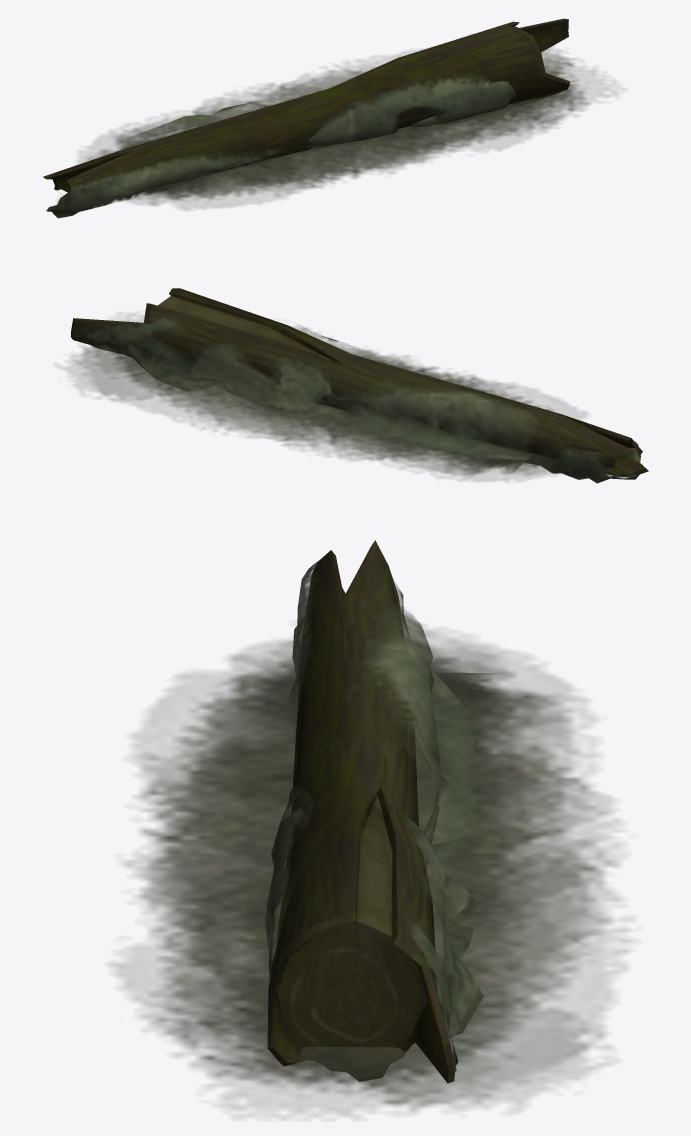
3 views of the same model, one above another, from view 1: azimuth 30°, elevation 25°; view 2: azimuth 150°, elevation 25°; view 3: azimuth 270°, elevation 25° (orthographic). The views are drawn at different scales.
Visible parts, largest first — view 1: plants_lying_snag_b-1-underlay, plants_lying_snag_b-0-snag; view 2: plants_lying_snag_b-1-underlay, plants_lying_snag_b-0-snag; view 3: plants_lying_snag_b-1-underlay, plants_lying_snag_b-0-snag.
Part boxes in pixels (x1,y1,x2,y2): plants_lying_snag_b-1-underlay: (52,47,616,218); plants_lying_snag_b-0-snag: (43,18,570,211); plants_lying_snag_b-1-underlay: (63,314,640,483); plants_lying_snag_b-0-snag: (71,288,648,476); plants_lying_snag_b-1-underlay: (111,560,629,1116); plants_lying_snag_b-0-snag: (267,540,455,1083).
Size of the model in its own units: 5.9 by 0.7982 by 2.72.
2 materials, 2 textured.
